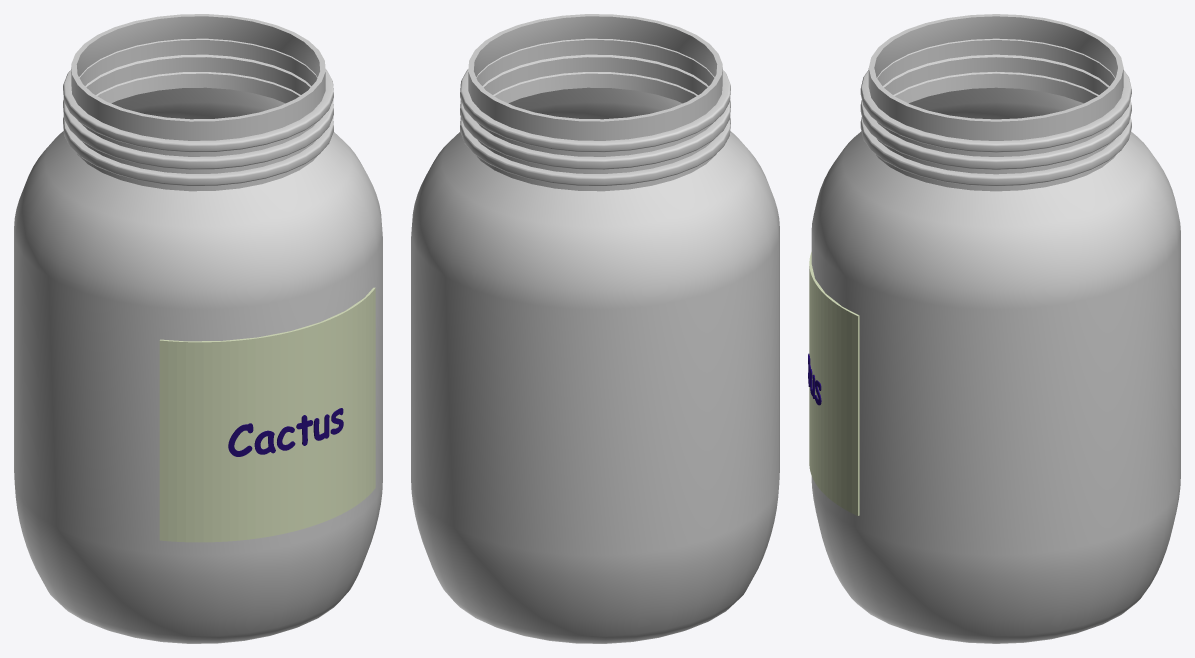
The model's file is Jar_Cactus.fbx.
3 renders of one model, left to right at view 1: azimuth 30°, elevation 25°; view 2: azimuth 150°, elevation 25°; view 3: azimuth 270°, elevation 25°, orthographic.
Visible parts, largest first — view 1: Jar.002; view 2: Jar.002; view 3: Jar.002.
Boxes of the visible parts, x1,y1,x2,y2 form: Jar.002: [14, 14, 382, 643]; Jar.002: [411, 14, 779, 643]; Jar.002: [808, 14, 1180, 643].
Bounding box in the file's own units: 25.69 × 39.71 × 25.93.
